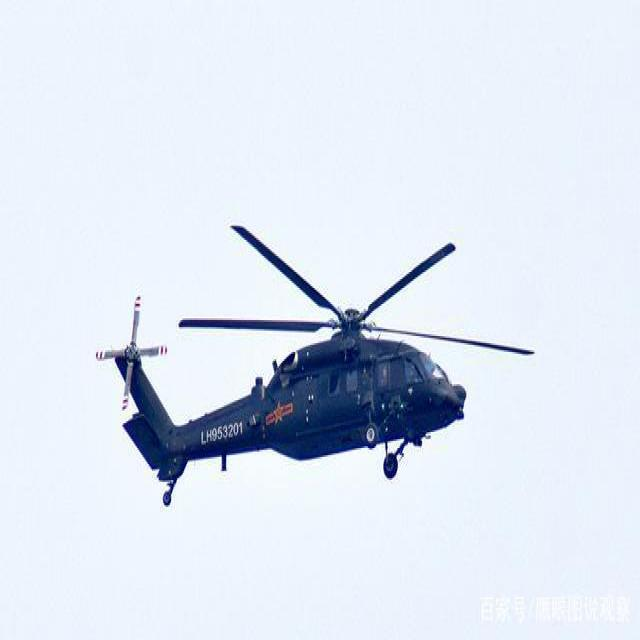MIL_HELO: (81, 196, 528, 544)
